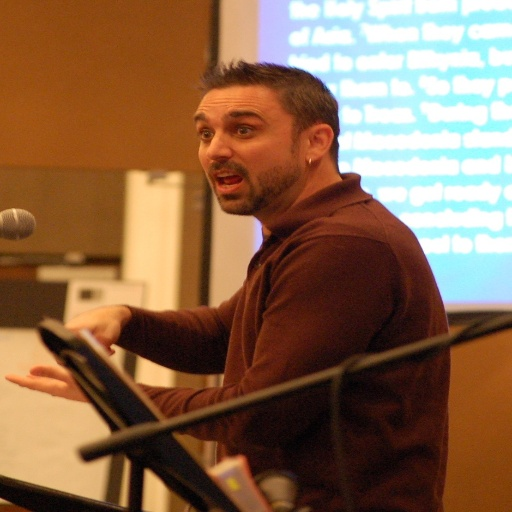hand: (4, 361, 88, 404), (64, 305, 135, 355)
